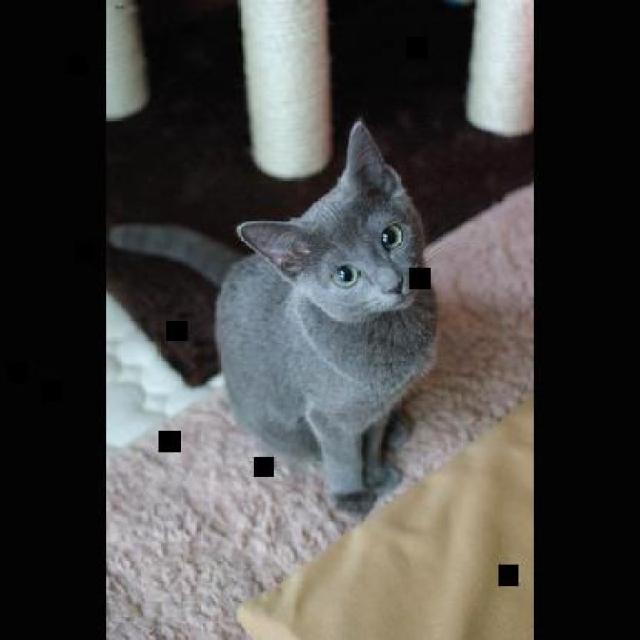unauthorized: (106, 116, 439, 516)
